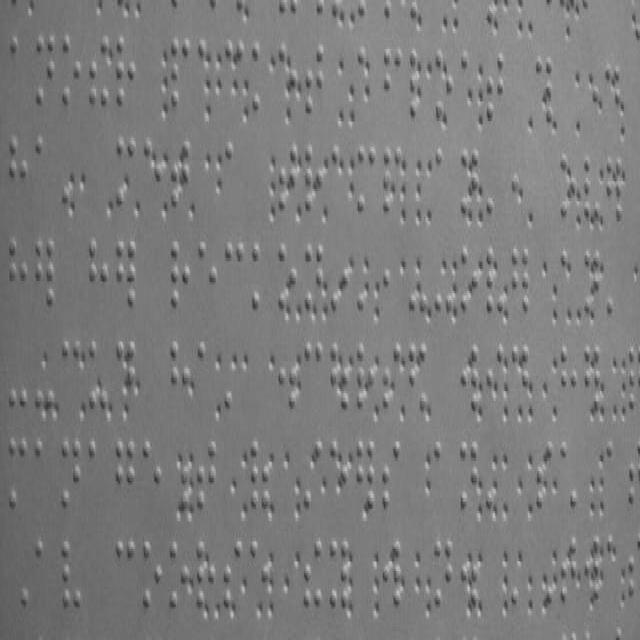braiile: (223, 137, 249, 219), (60, 534, 84, 614), (59, 432, 82, 514), (85, 432, 108, 514), (6, 431, 28, 516), (114, 431, 136, 516), (169, 338, 191, 422), (7, 134, 30, 214), (7, 237, 29, 319), (60, 334, 82, 416), (33, 430, 55, 512), (60, 29, 82, 109), (34, 134, 56, 214), (196, 236, 218, 316), (141, 436, 163, 516), (196, 436, 218, 516), (605, 434, 627, 514), (434, 147, 456, 225), (88, 232, 110, 310), (34, 31, 56, 107), (115, 33, 137, 109), (169, 33, 191, 109), (304, 42, 326, 118), (432, 438, 454, 514), (114, 536, 136, 612), (141, 536, 163, 612), (168, 238, 190, 313), (249, 238, 271, 313), (10, 32, 32, 106), (380, 45, 402, 119), (304, 338, 324, 418), (559, 342, 579, 422), (194, 338, 213, 422), (168, 534, 188, 612), (250, 38, 270, 114), (458, 438, 478, 514), (432, 538, 453, 609), (485, 50, 505, 124), (357, 143, 377, 217), (225, 238, 245, 312), (34, 534, 54, 608), (222, 536, 242, 610), (329, 536, 349, 610), (250, 538, 268, 609)
